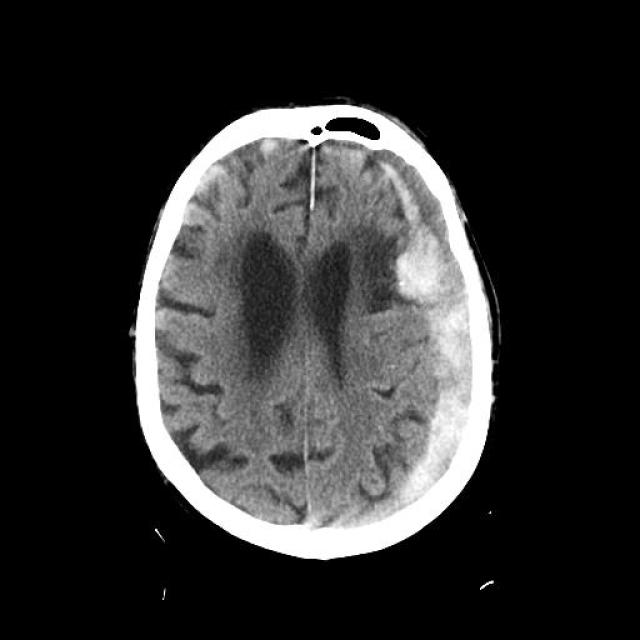Intraparenchymal: (177, 154, 235, 230)
Subdural: (374, 158, 520, 522)
